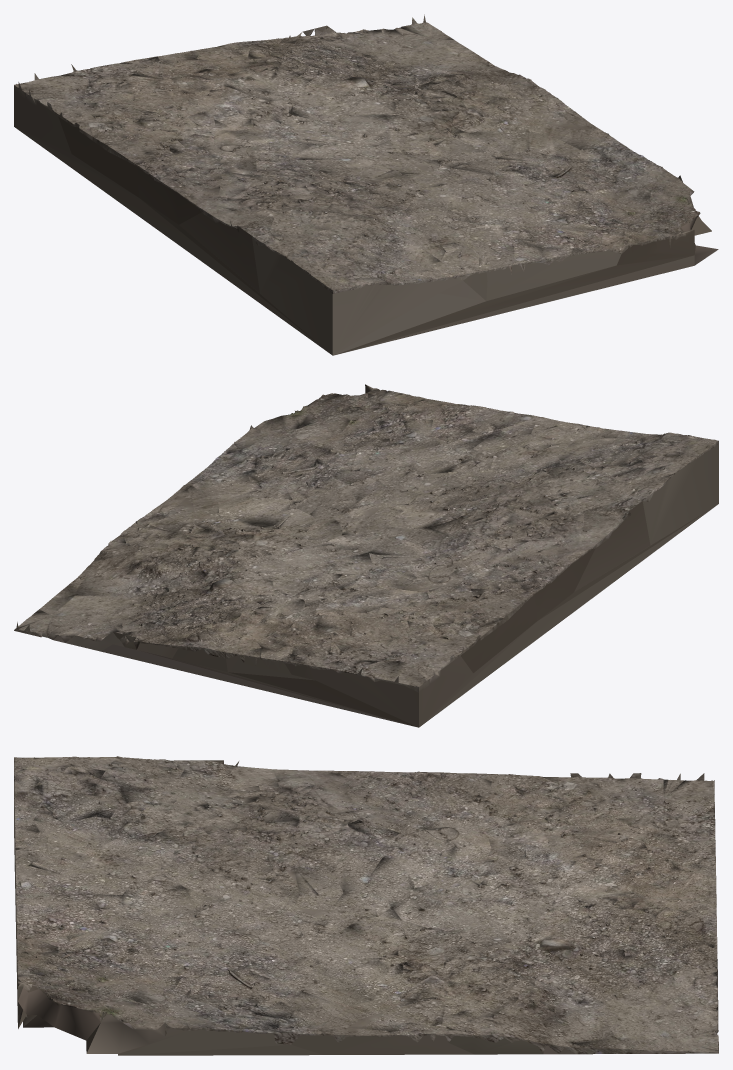
The model's file is ground-bank-tile.glb.
3 renders of one model, top to bottom at view 1: azimuth 30°, elevation 25°; view 2: azimuth 150°, elevation 25°; view 3: azimuth 270°, elevation 25°, orthographic. The views are drawn at different scales.
Visible parts, largest first — view 1: Ground_02; view 2: Ground_02; view 3: Ground_02.
Boxes of the visible parts, bbox=[...] form: Ground_02: bbox=[14, 14, 718, 355]; Ground_02: bbox=[14, 384, 718, 727]; Ground_02: bbox=[14, 756, 718, 1055].
Bounding box in the file's own units: 27.34 × 4.09 × 35.67.
Materials: 1 (1 with a texture image).
